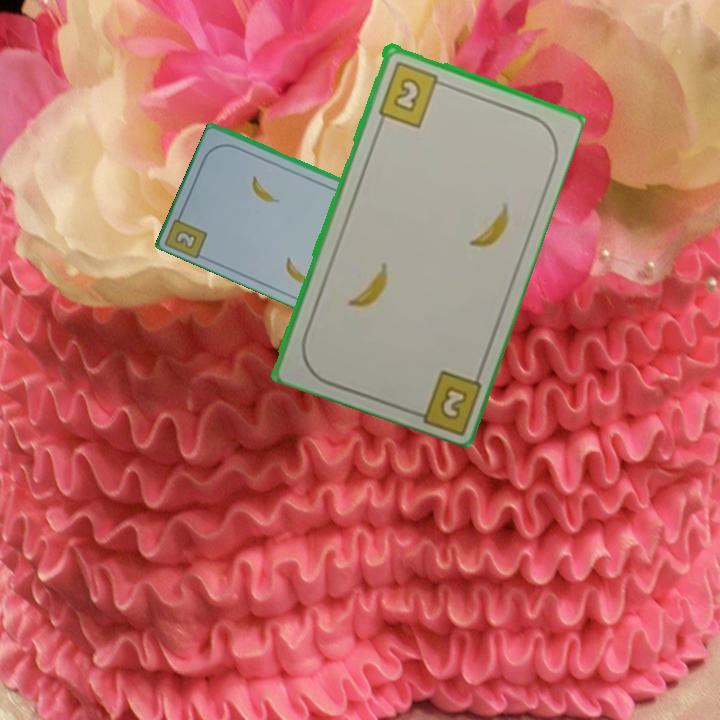2b: (374, 57, 449, 130), (164, 206, 211, 260), (435, 381, 471, 423)
